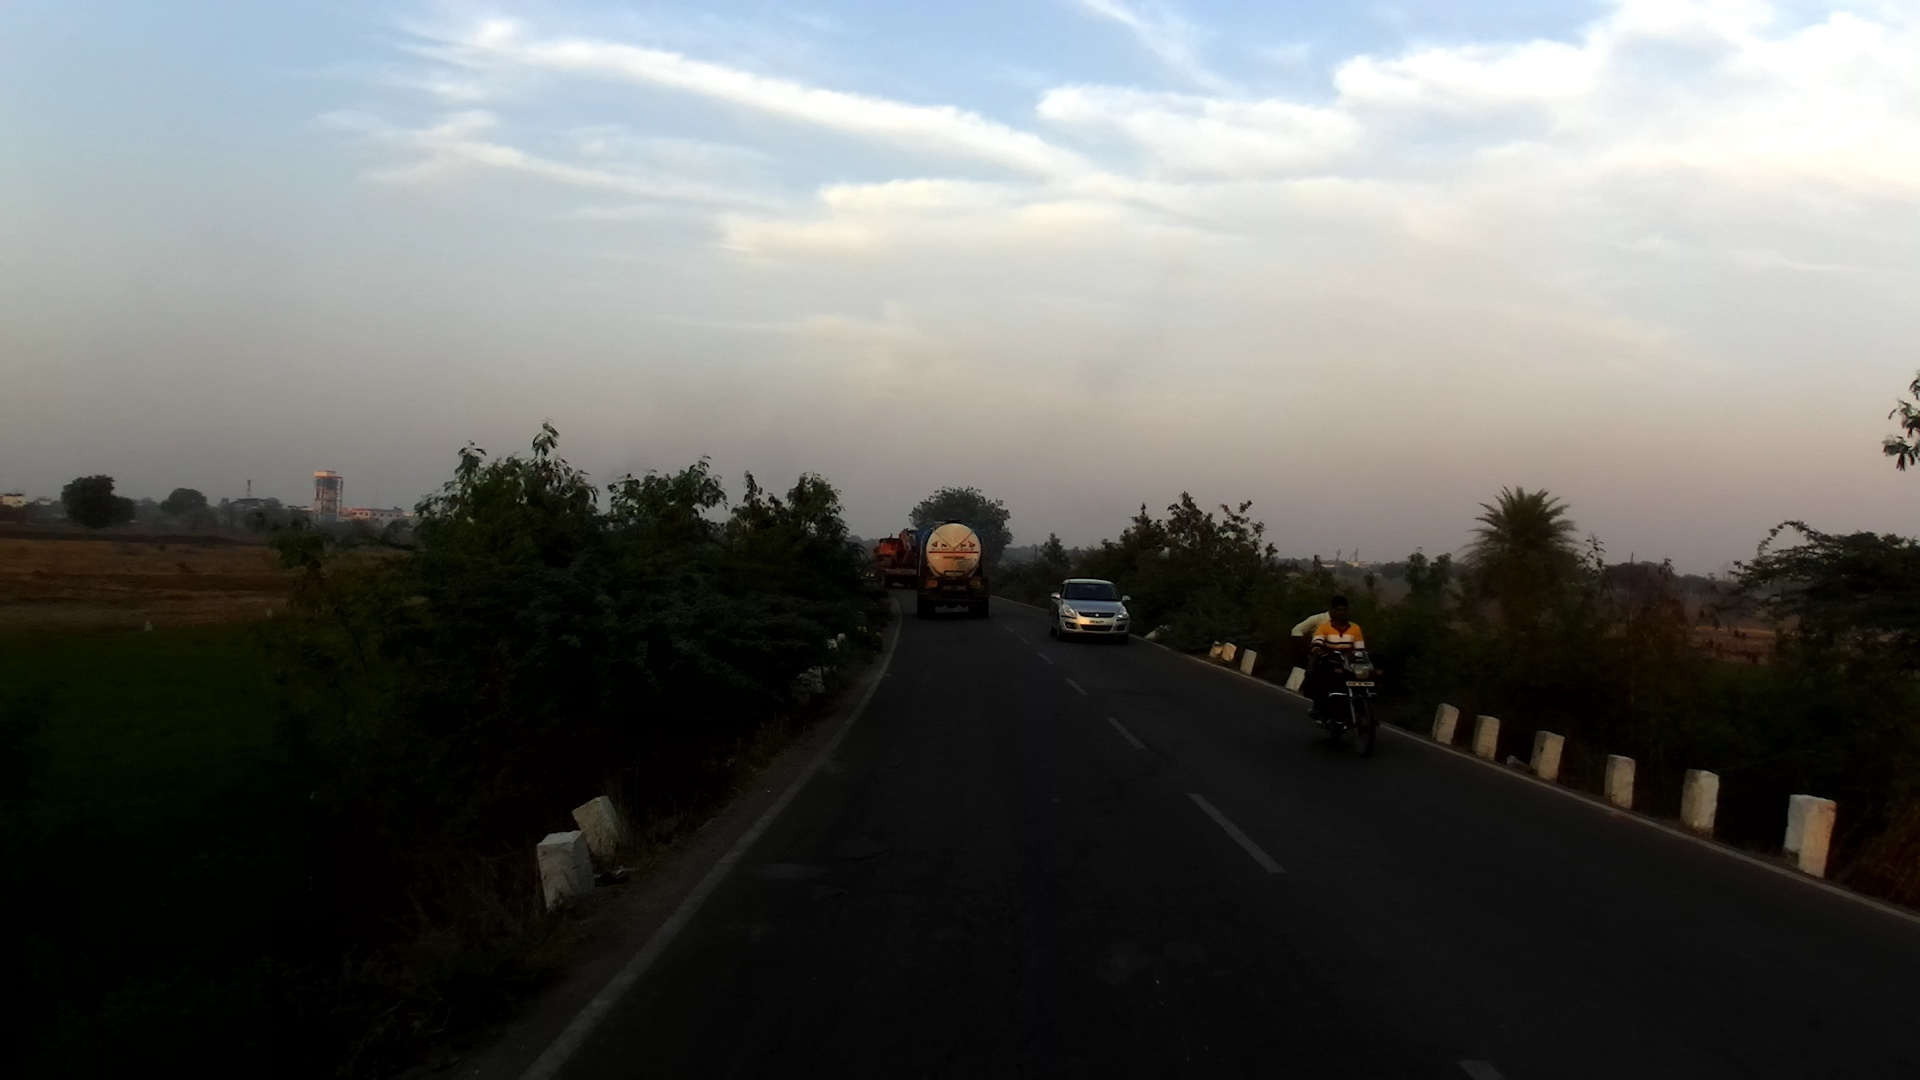car: (1047, 577, 1134, 651)
motorcycle: (1305, 633, 1383, 758)
rider: (1296, 599, 1377, 729), (1290, 592, 1355, 714)
truck: (912, 519, 990, 621), (867, 522, 925, 595)
